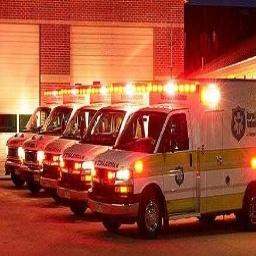Ambulance: (88, 80, 255, 237), (57, 84, 148, 214), (40, 85, 110, 200), (20, 86, 89, 192), (5, 95, 62, 186)
